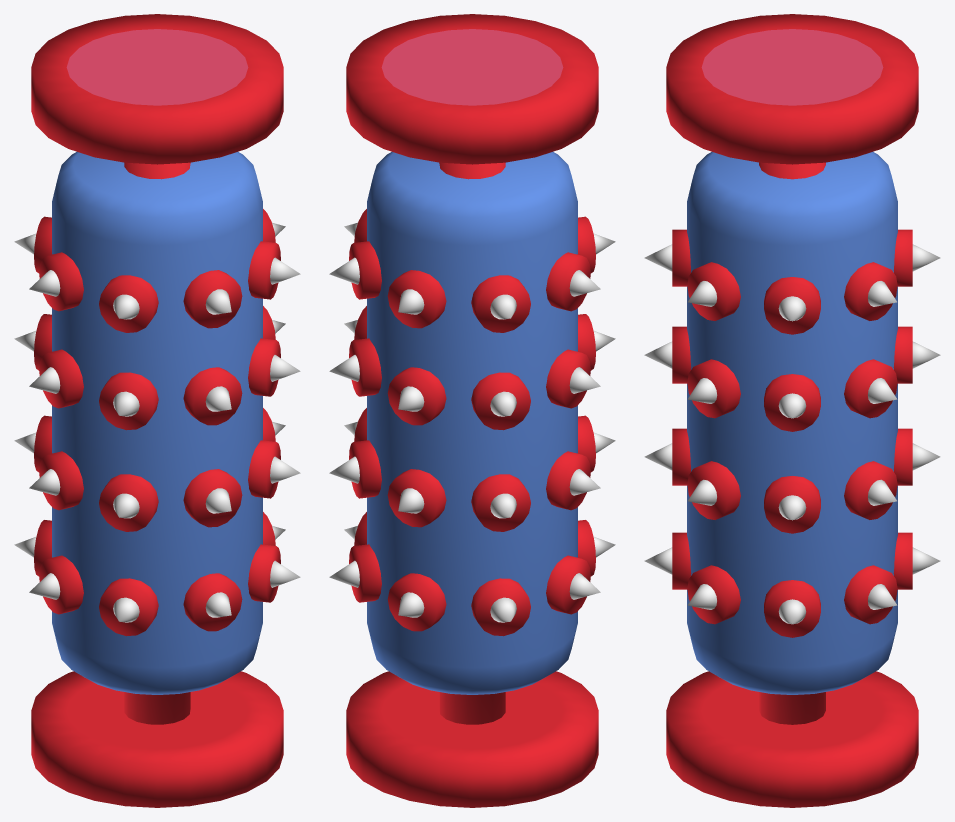
File: Obstacle 20 V1.fbx
The picture shows the model from 3 angles, left to right: view 1: azimuth 30°, elevation 25°; view 2: azimuth 150°, elevation 25°; view 3: azimuth 270°, elevation 25°; orthographic projection.
Parts seen in each view (by area): view 1: O20 Part 1, O20 Part 2; view 2: O20 Part 1, O20 Part 2; view 3: O20 Part 1, O20 Part 2.
Boxes of the visible parts, box(x1,y1,x2,y2) form: O20 Part 1: box(14, 152, 300, 694); O20 Part 2: box(31, 14, 283, 807); O20 Part 1: box(329, 152, 615, 694); O20 Part 2: box(346, 14, 598, 807); O20 Part 1: box(644, 152, 940, 694); O20 Part 2: box(666, 14, 918, 807).
Size of the model in its own units: 66.38 by 170 by 66.38.
Materials: 1 (1 with a texture image).
